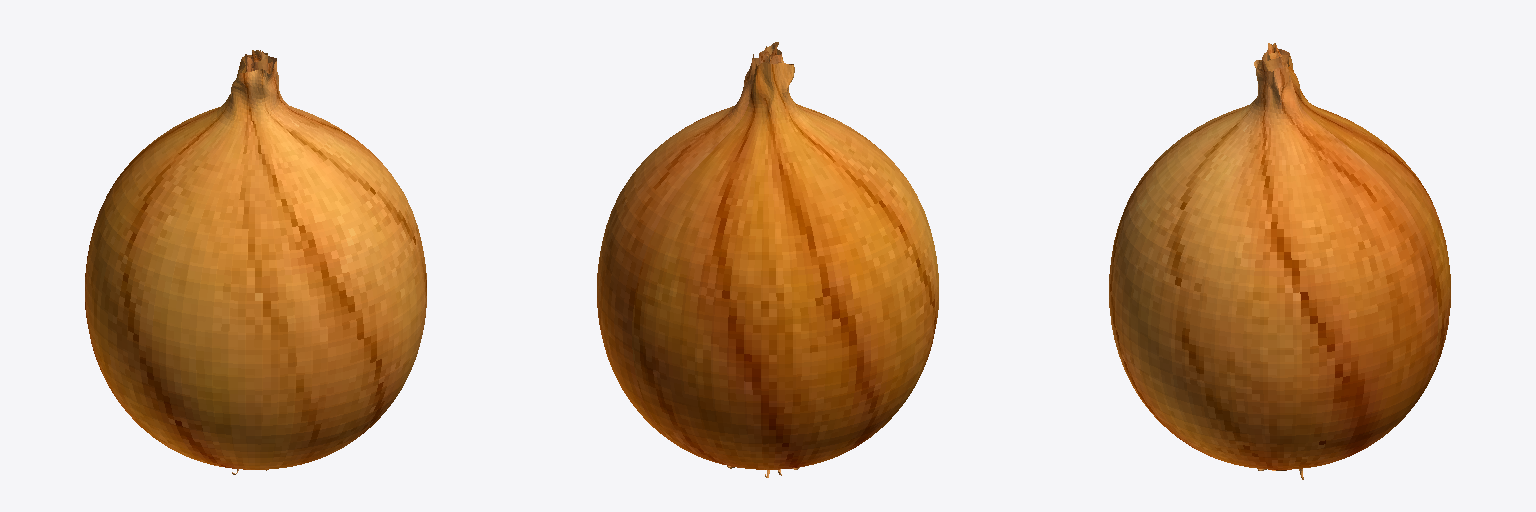
3 views of the same model, side by side, from view 1: azimuth 30°, elevation 25°; view 2: azimuth 150°, elevation 25°; view 3: azimuth 270°, elevation 25° (orthographic).
Visible parts, largest first — view 1: Onion_01; view 2: Onion_01; view 3: Onion_01.
Part boxes in pixels (x1,y1,x2,y2): Onion_01: (85, 50, 426, 474); Onion_01: (597, 42, 938, 477); Onion_01: (1109, 43, 1450, 479).
Bounding box in the file's own units: 61.84 × 84.06 × 61.84.
Materials: 1 (1 with a texture image).